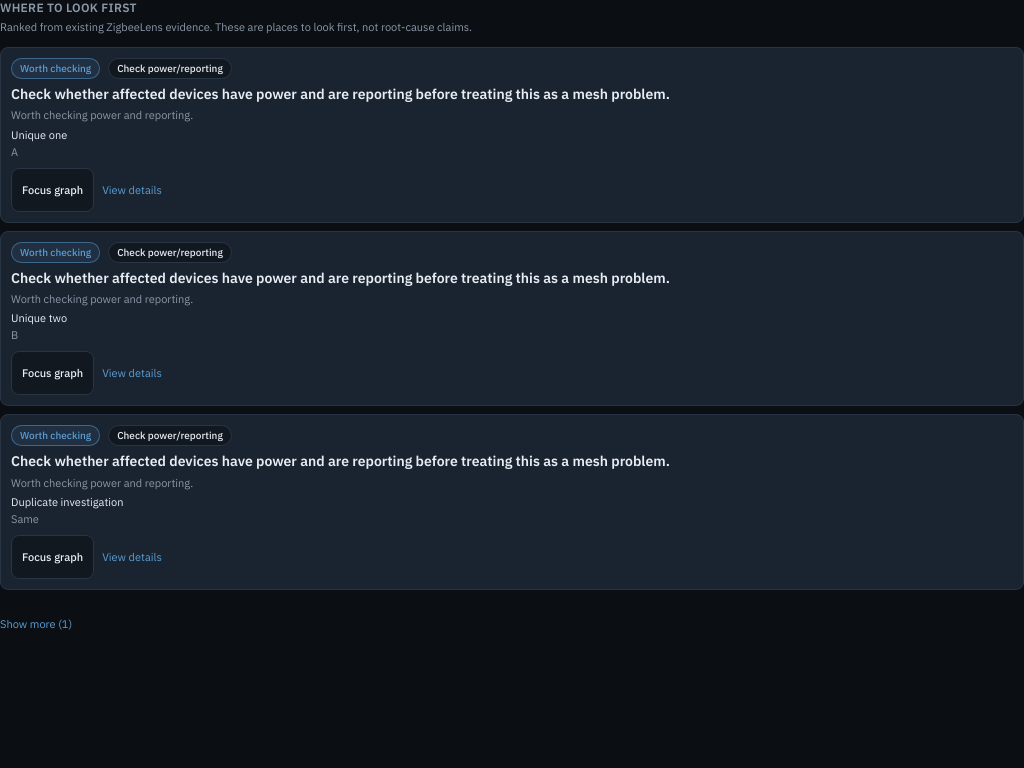
it: InvestigationPanel accessible action names › keeps full-list ordinals stable across Show more
Expected: the number of elements with test id "investigation-card" is 3, top-left (0, 47), bottom-right (1023, 223); top-left (0, 231), bottom-right (1023, 406); top-left (0, 414), bottom-right (1023, 590)
Click the button "Show more (1)": x=36, y=624 top-left (0, 602), bottom-right (72, 646)
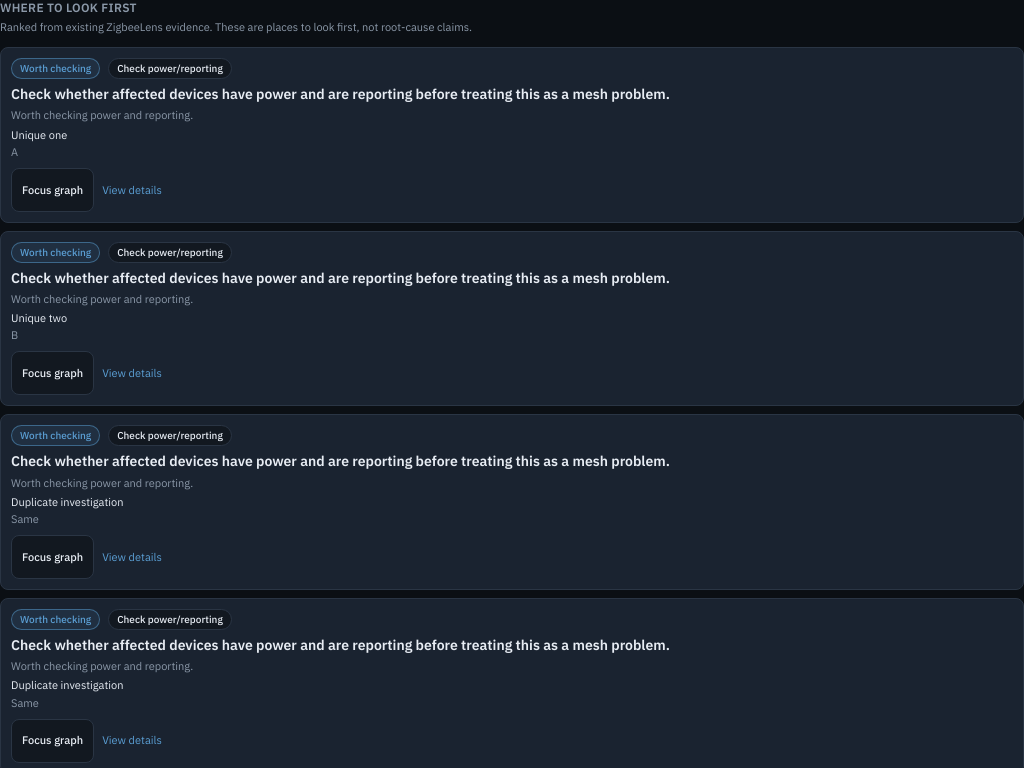
Result: the 4th button "Focus graph" is shown at top-left (11, 719), bottom-right (94, 763)
